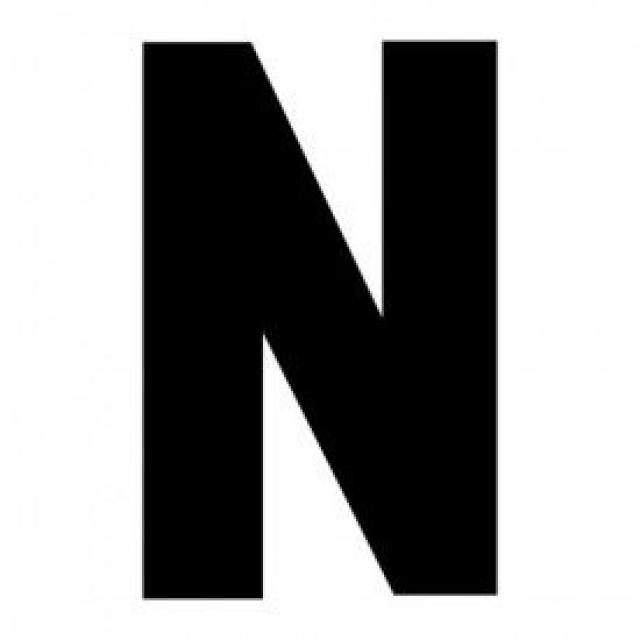N: (54, 12, 528, 629)
